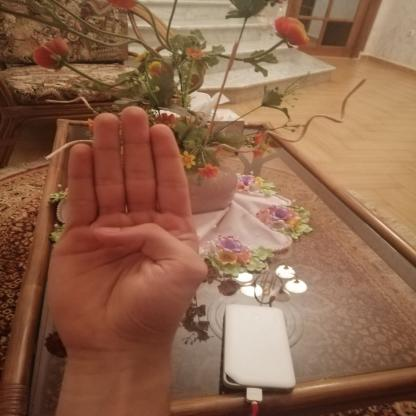KAAF: (28, 93, 222, 369)
